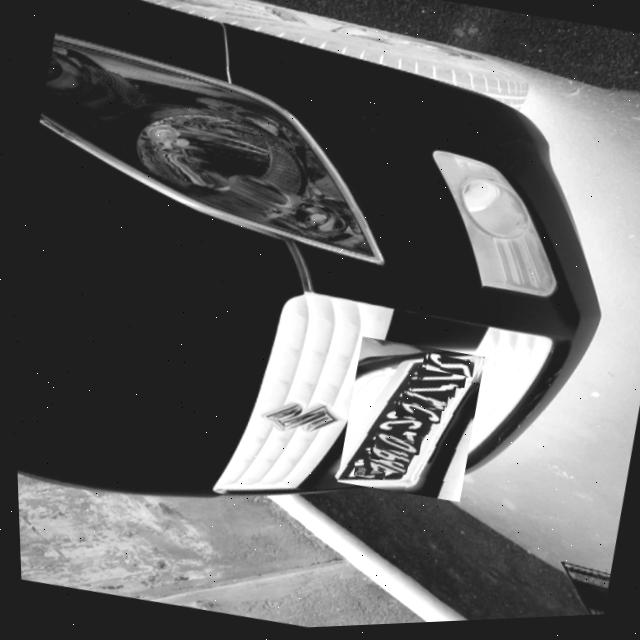1: (400, 390, 447, 415), (416, 368, 463, 392), (407, 381, 453, 403)
2: (422, 354, 473, 382)
7: (370, 432, 418, 459), (377, 428, 423, 450)
C: (385, 412, 434, 440), (392, 401, 439, 428)
IND: (349, 462, 383, 483)
Indian_registered: (334, 358, 478, 488)
M: (359, 450, 407, 479)
P: (365, 447, 409, 469)
